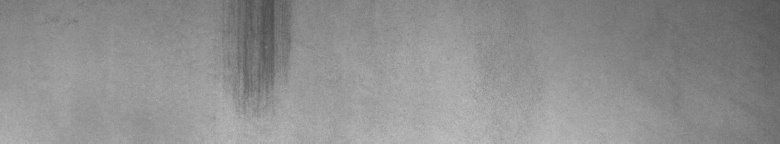ka: (228, 4, 291, 96)
